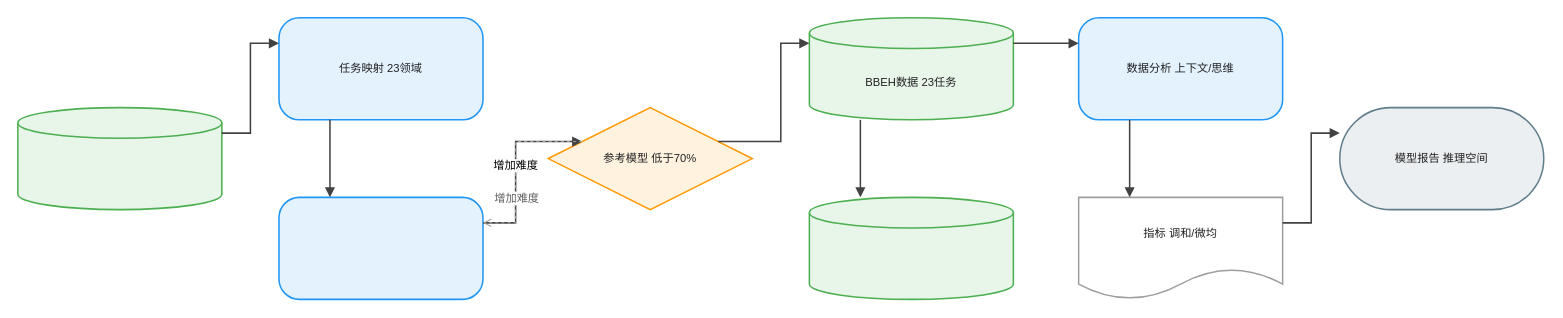
Image size: 1563x318. Some labels were removed from this diagram. The shapes that lost their labels are listed below. From the top down, each one's box as (x1, y1, x2, y2) in pixels, then its label:
(17, 106, 222, 210): BBH审计 饱和/捷径
(278, 196, 483, 300): 更难替换 多跳推理
(808, 196, 1014, 300): BBEH Mini 460例
